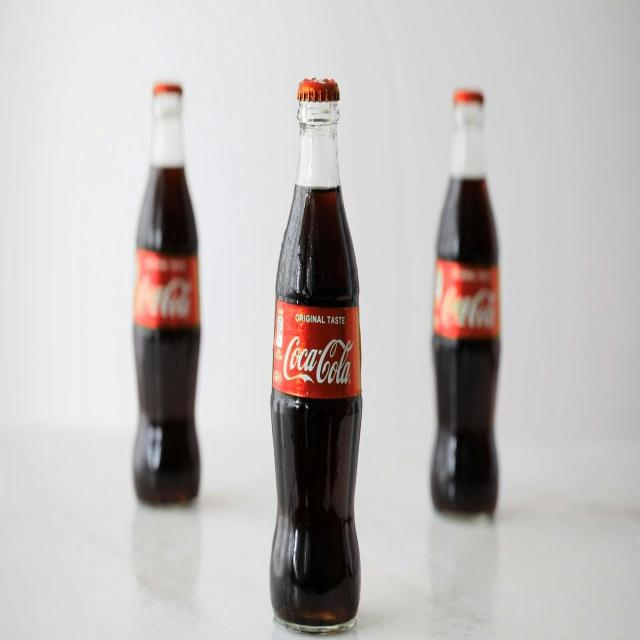coca cola: (282, 330, 356, 392)
